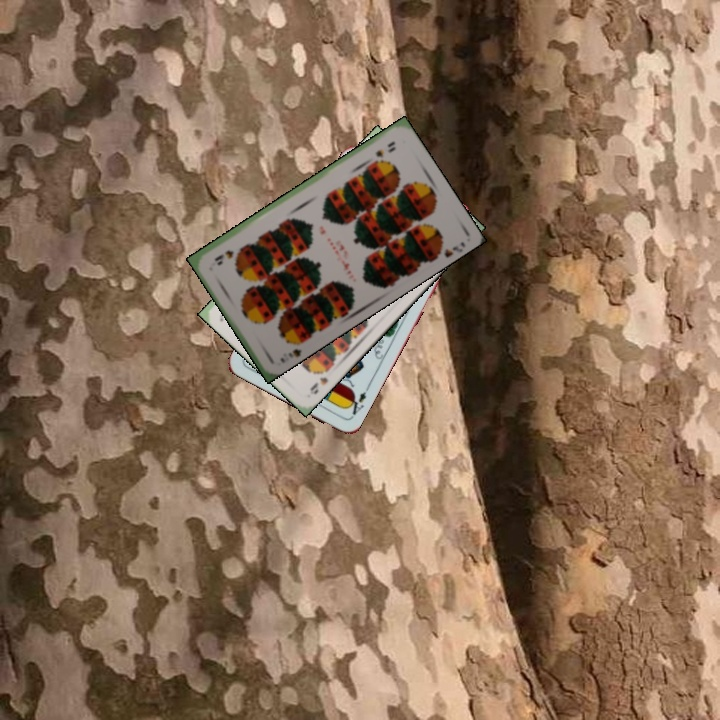EA: (343, 383, 372, 421)
S9: (276, 334, 306, 366), (306, 363, 334, 397), (371, 137, 398, 160)
